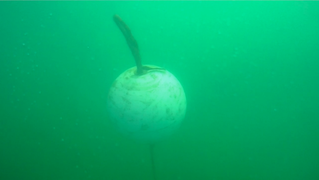buoy: (105, 64, 187, 145)
